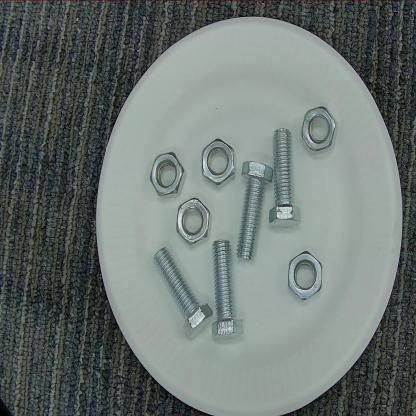FOD: (148, 243, 214, 346), (206, 241, 250, 348), (263, 126, 305, 233), (233, 160, 274, 261), (143, 148, 188, 204), (195, 136, 237, 192), (286, 251, 328, 307), (298, 103, 338, 153), (175, 196, 212, 248)
